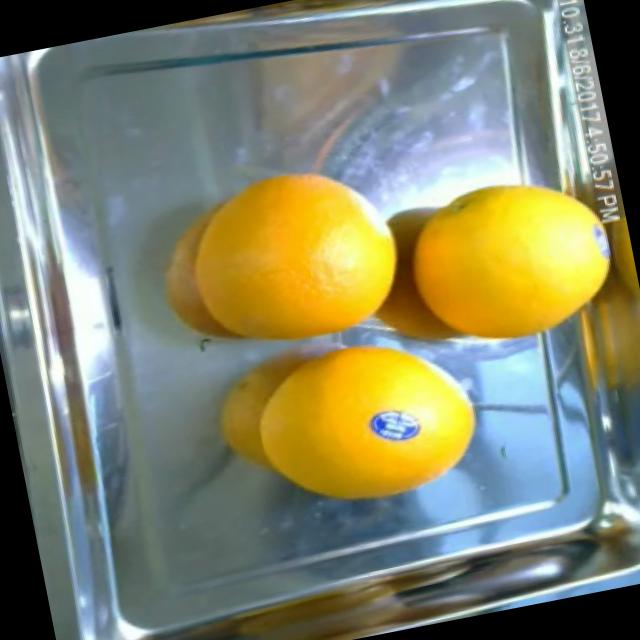Fruit: (395, 145, 640, 357), (192, 324, 406, 526)
